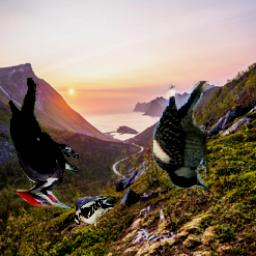Woodpecker: (8, 79, 79, 210), (151, 81, 208, 189), (74, 198, 116, 228)
